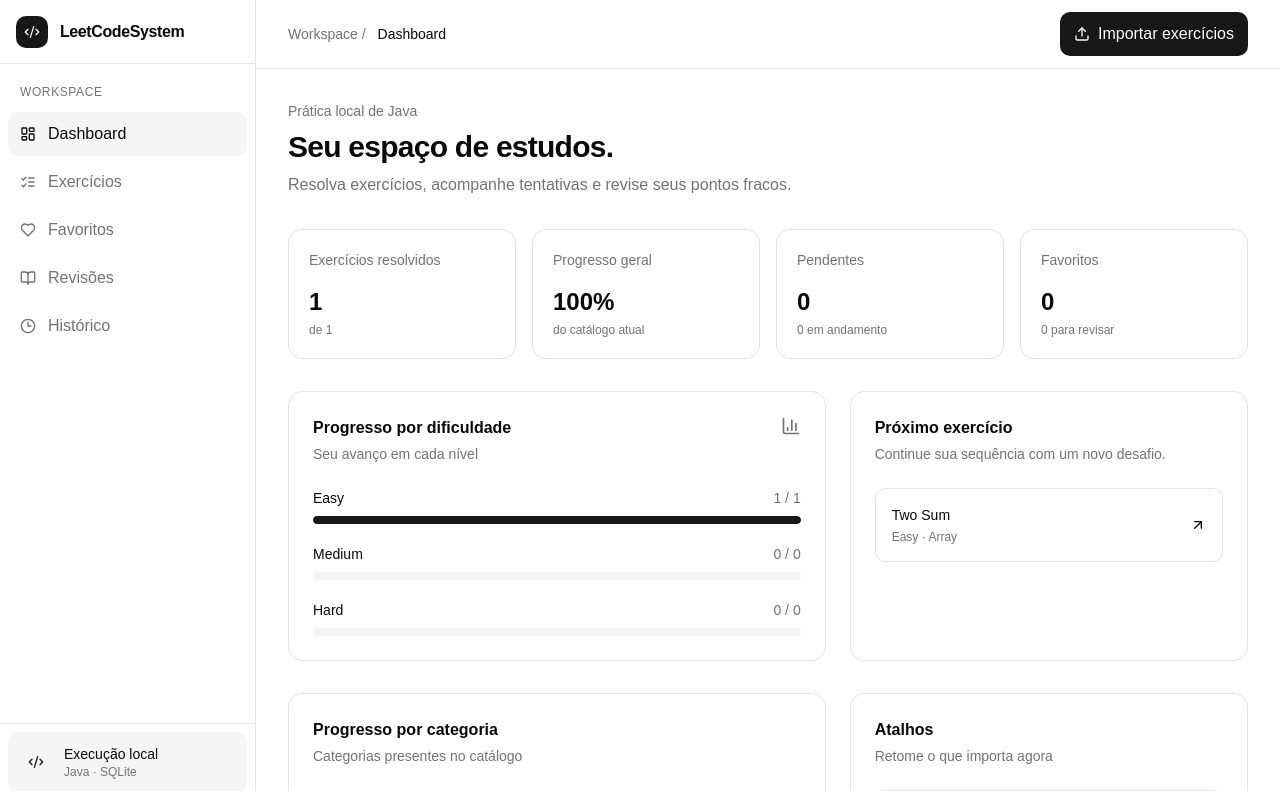
it: Judge integration in the solver › refreshes progress after a non-accepted Submit
Check: the heading "Seu espaço de estudos." is shown, box [288,130,613,163]
Click the button "Exercícios".
click(128, 182)  # box [8,160,247,204]
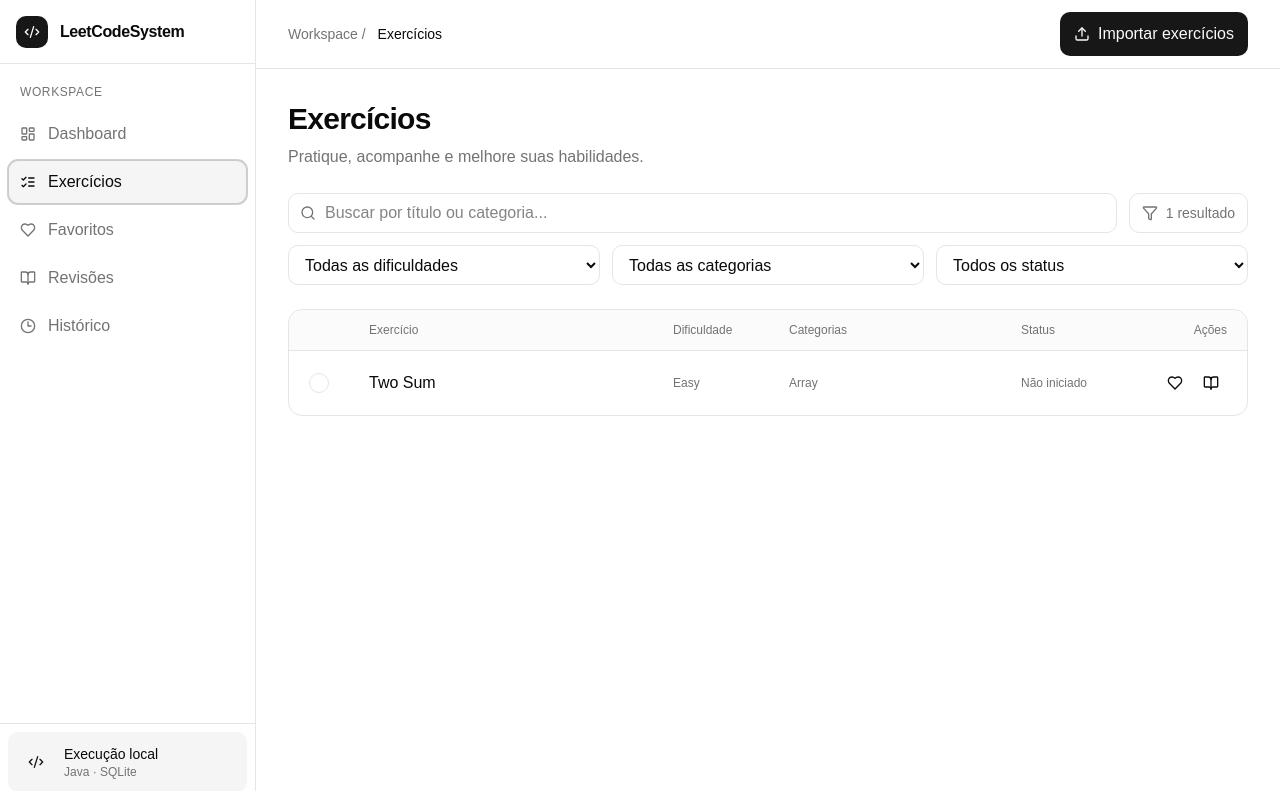
Click the button "Two Sum".
click(402, 382)  # box [369,371,657,395]
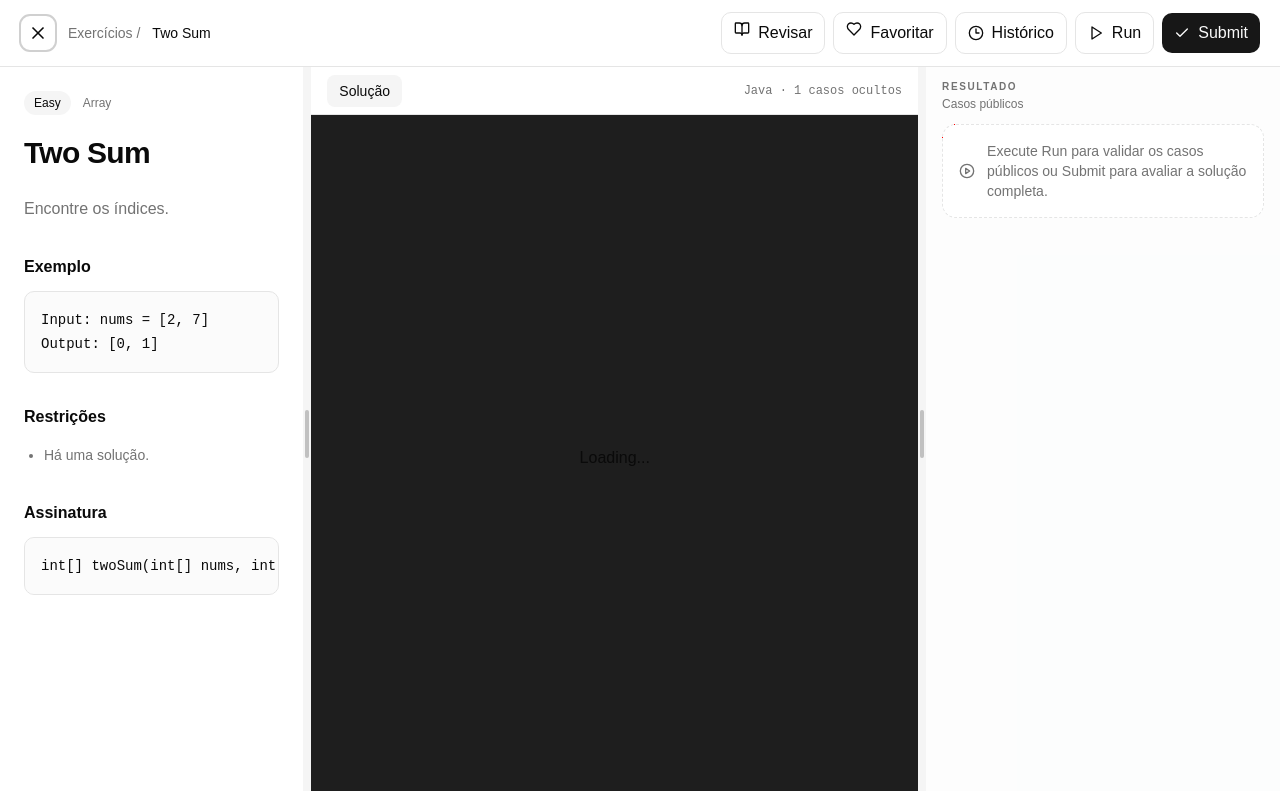
Click the button "Submit".
click(1211, 33)  # box [1162,13,1260,53]
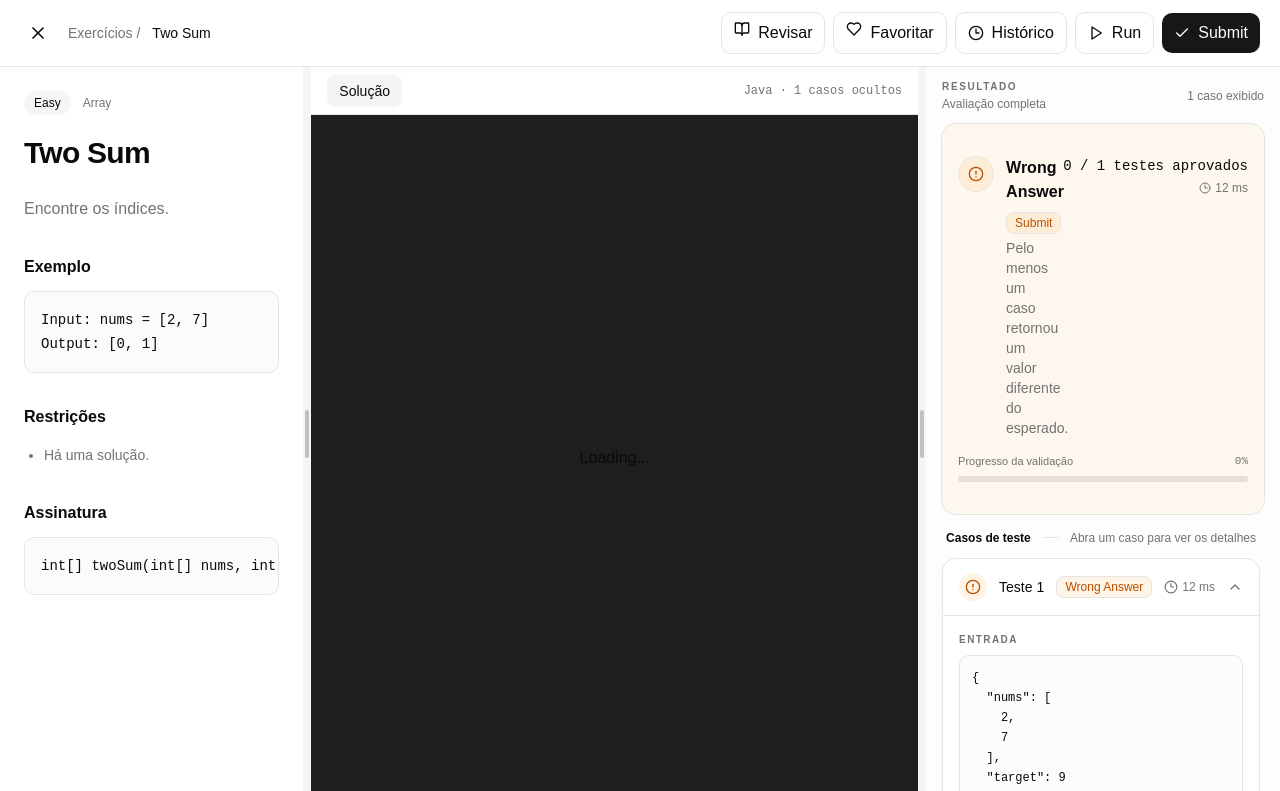
Check: the number of headings "Wrong Answer" is 2, box [1006,156,1064,204]; [1056,576,1152,598]
